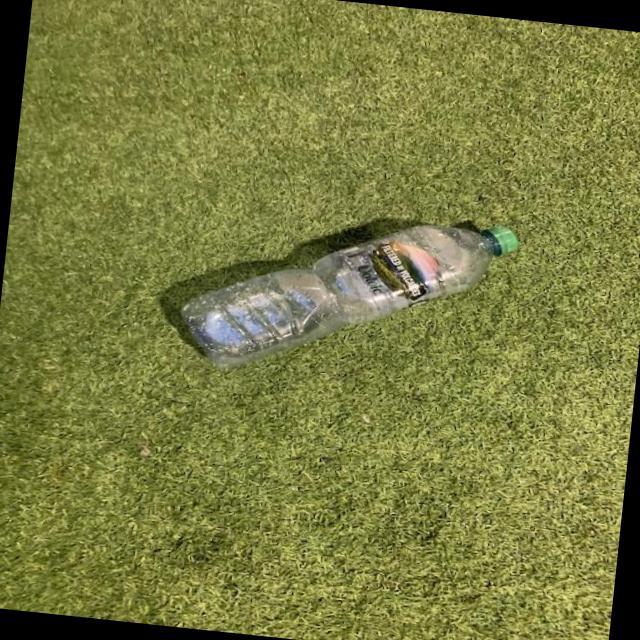plastic_bottle: (175, 193, 520, 397)
